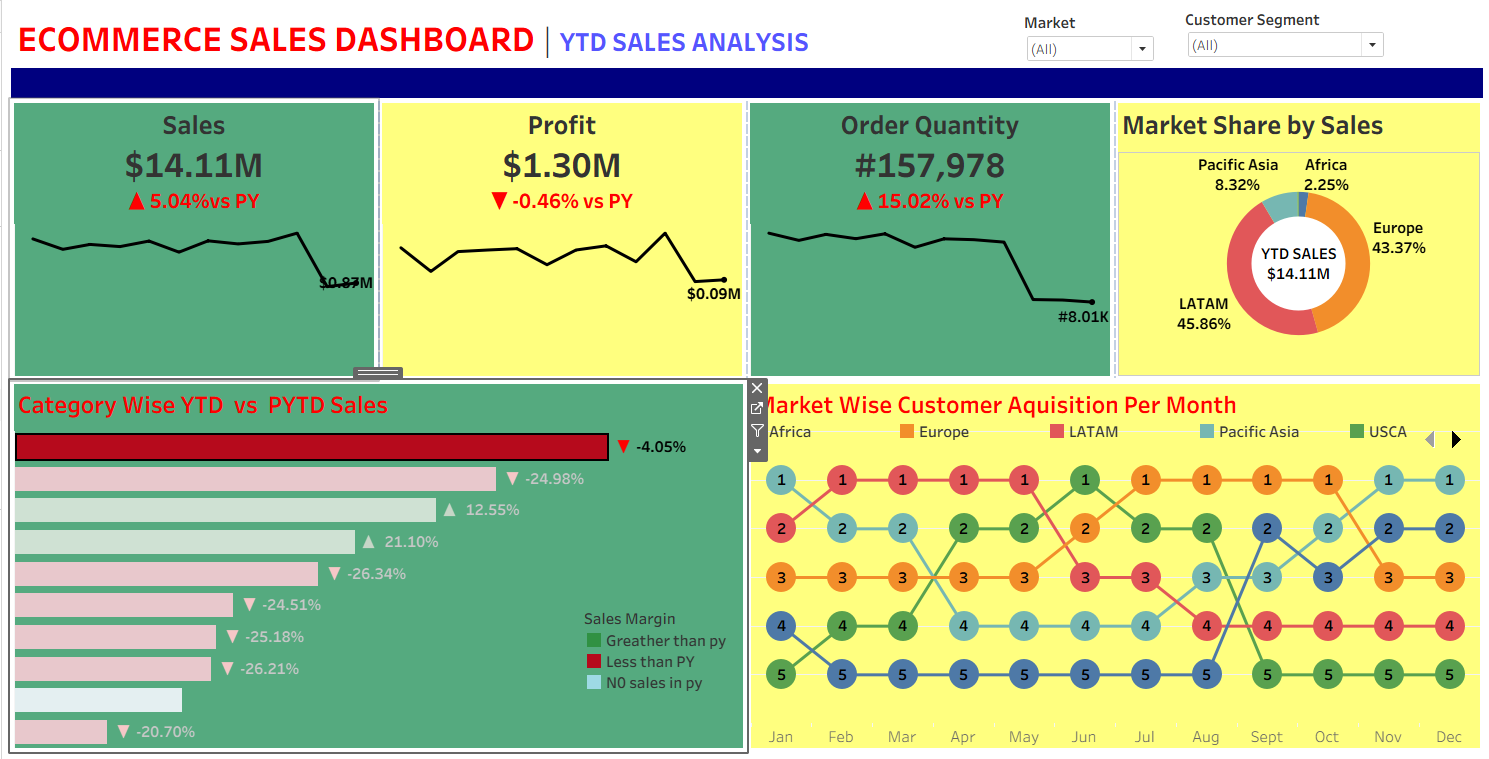

What the dashboard file says about the page in this screenshot:
{"tool":"tableau","page":{"name":"Dashboard 1","canvas":[1000,1000],"units":"permille","ordinal":0},"visuals":[{"type":"title","box":[4.9,10.5,893.3,77.6]},{"type":"filter","title":"Profit KPI","param":"[federated.11hwqdp1e410g51dc72qi0ov8776].[none:Customer Segment:nk]","box":[717,11.8,122.4,65.8]},{"type":"filter","title":"Profit KPI","param":"[federated.11hwqdp1e410g51dc72qi0ov8776].[none:Market:nk]","box":[619.4,15.8,80.6,67.1]},{"type":"blank","box":[4.9,88.2,893.3,42.1]},{"type":"worksheet","title":"Sales KPI","mark":"Automatic","rows":["Sales"],"cols":["Order Date"],"box":[4.9,130.3,223,369.7]},{"type":"worksheet","title":"Profit KPI","mark":"Automatic","rows":["Profit Per Order"],"cols":["Order Date"],"box":[227.9,130.3,223,369.7]},{"type":"worksheet","title":"Order quantity KPI","mark":"Automatic","rows":["Order Quantity"],"cols":["Order Date"],"box":[450.9,130.3,223,369.7]},{"type":"worksheet","title":"Market Share by Sales","mark":"Pie","cols":["Calculation_504121686001573906","Calculation_504121686001623060"],"box":[673.9,130.3,224.2,369.7]},{"type":"worksheet","title":"Category Wise YTD vs PYTD Sales","mark":"Bar","rows":["Category Name"],"cols":["Calculation_504121686016184349"],"box":[4.9,500,446.7,489.5]},{"type":"worksheet","title":"Market Wise Customer Aquisition Per Month","mark":"Automatic","cols":["Order Date"],"box":[451.5,500,446.7,489.5]},{"type":"legend","title":"Market Wise Customer Aquisition Per Month","param":"[federated.11hwqdp1e410g51dc72qi0ov8776].[none:Market:nk]","box":[451.5,554,438.8,47.4]},{"type":"legend","title":"Category Wise YTD vs PYTD Sales","param":"[federated.11hwqdp1e410g51dc72qi0ov8776].[usr:Calculation_504121686020685856:nk]","box":[352.7,800,89.1,118.4]}]}

Visuals, with their boxes on the dashboard's canvas, which has no fixed pixel size, in thousandths of its width and height (x1, y1, x2, y2). These are canvas units, not pixel positions in the 1489x759 screenshot, which may show the page scaled, cropped or inside an application window:
title: pyautogui.locateOnScreen(5, 10, 898, 88)
"Profit KPI" filter: pyautogui.locateOnScreen(717, 12, 839, 78)
"Profit KPI" filter: pyautogui.locateOnScreen(619, 16, 700, 83)
blank: pyautogui.locateOnScreen(5, 88, 898, 130)
"Sales KPI" worksheet: pyautogui.locateOnScreen(5, 130, 228, 500)
"Profit KPI" worksheet: pyautogui.locateOnScreen(228, 130, 451, 500)
"Order quantity KPI" worksheet: pyautogui.locateOnScreen(451, 130, 674, 500)
"Market Share by Sales" worksheet (Pie marks): pyautogui.locateOnScreen(674, 130, 898, 500)
"Category Wise YTD vs PYTD Sales" worksheet (Bar marks): pyautogui.locateOnScreen(5, 500, 452, 990)
"Market Wise Customer Aquisition Per Month" worksheet: pyautogui.locateOnScreen(452, 500, 898, 990)
"Market Wise Customer Aquisition Per Month" legend: pyautogui.locateOnScreen(452, 554, 890, 601)
"Category Wise YTD vs PYTD Sales" legend: pyautogui.locateOnScreen(353, 800, 442, 918)
